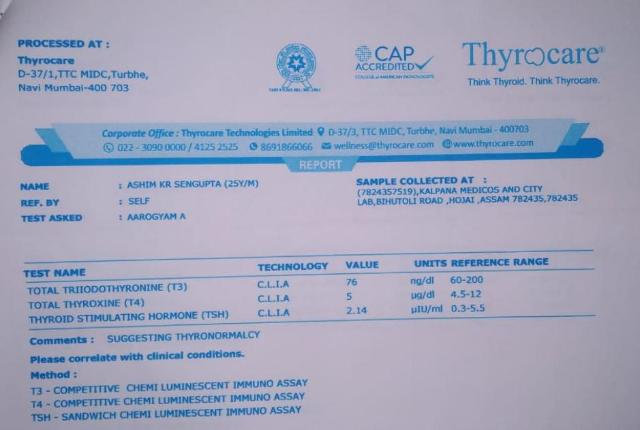Clinical_Conditions: (25, 381, 316, 426)
Name: (127, 178, 260, 190)
Ref_By: (126, 196, 155, 206)
Reference_Range: (449, 272, 491, 317)
Technology: (252, 277, 296, 322)
Test_Asked: (125, 211, 190, 224)
Test_Name: (26, 282, 235, 326)
Unit: (408, 273, 444, 317)
Value: (340, 275, 375, 321)
